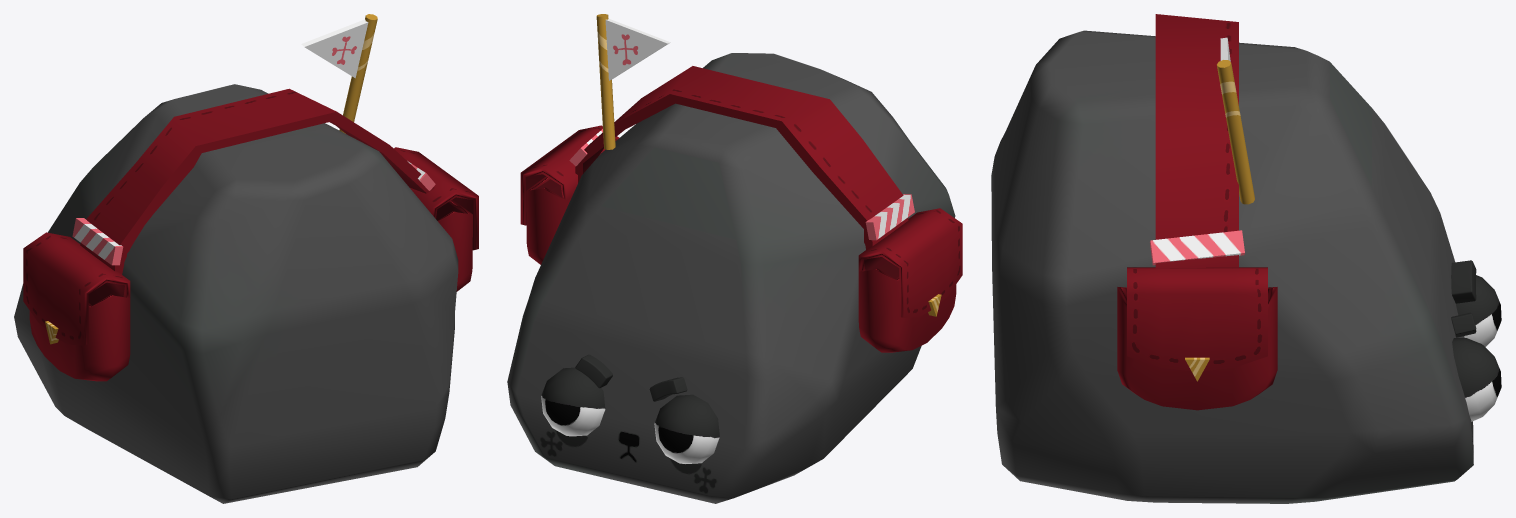
Rendered from Coal.glb.
The picture shows the model from 3 angles, left to right: view 1: azimuth 30°, elevation 25°; view 2: azimuth 150°, elevation 25°; view 3: azimuth 270°, elevation 25°; orthographic projection. The views are drawn at different scales.
Parts seen in each view (by area): view 1: Coal Head; view 2: Coal Head; view 3: Coal Head.
Part boxes in pixels (bbox=[...]): Coal Head: bbox=[14, 14, 478, 503]; Coal Head: bbox=[507, 14, 962, 503]; Coal Head: bbox=[991, 14, 1501, 503].
Size of the model in its own units: 5.18 by 4.7 by 4.86.
Materials: 1 (1 with a texture image).
